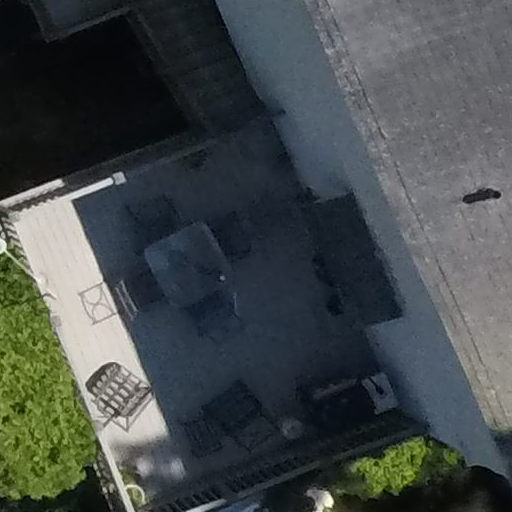container: (273, 409, 305, 440)
